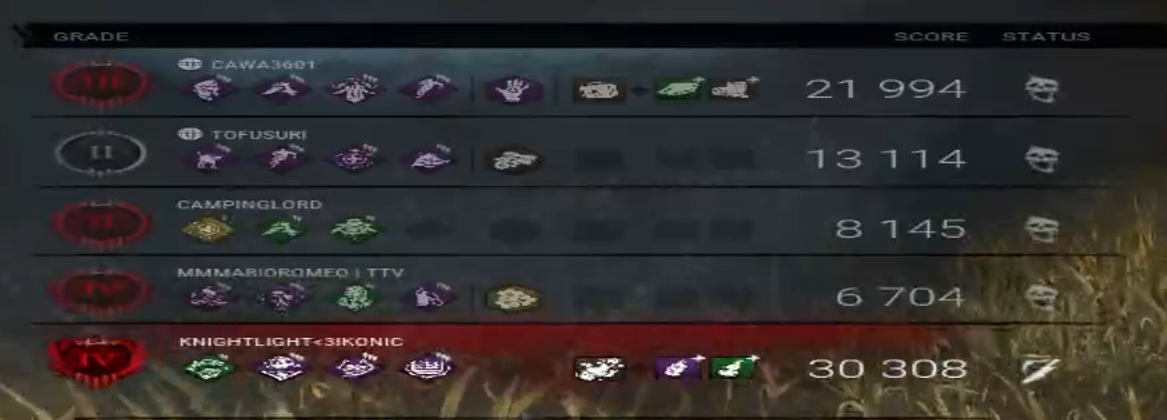bamboozle: (402, 353, 457, 382)
blank_perk: (400, 214, 455, 243)
circle_of_healing: (328, 144, 383, 173), (182, 214, 237, 243)
clairvoyance: (329, 214, 384, 243)
corrupt_intervention: (182, 354, 237, 383)
counterforce: (182, 281, 237, 310)
dead_hard: (400, 74, 455, 103), (254, 143, 309, 172)
decisive_strike: (253, 75, 308, 104), (253, 216, 308, 245)
deliverance: (327, 75, 382, 104)
hex:haunted_grounds: (254, 353, 309, 382)
hex:ruin: (328, 353, 383, 382)
inner_healing: (329, 282, 384, 311)
iron_will: (402, 145, 457, 174)
small_game: (253, 283, 308, 312)
spine_chill: (180, 145, 235, 174)
unbreakable: (181, 75, 236, 104)
well_make_it: (401, 281, 456, 310)
